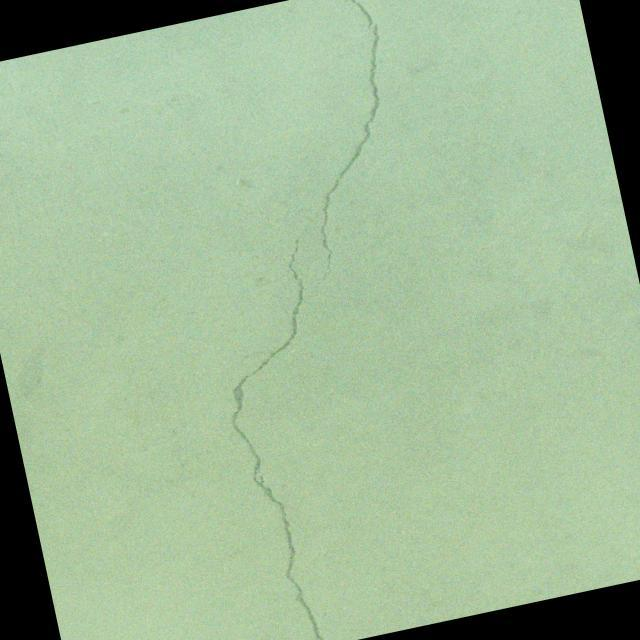crack: (193, 226, 394, 640), (245, 0, 432, 303)
